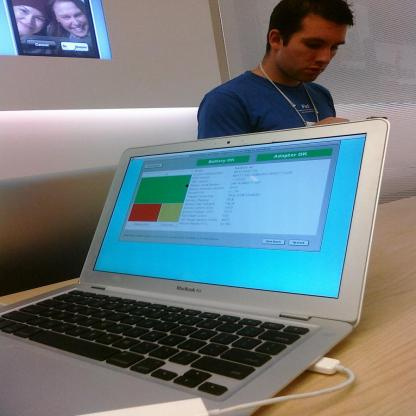board: (0, 112, 393, 414)
